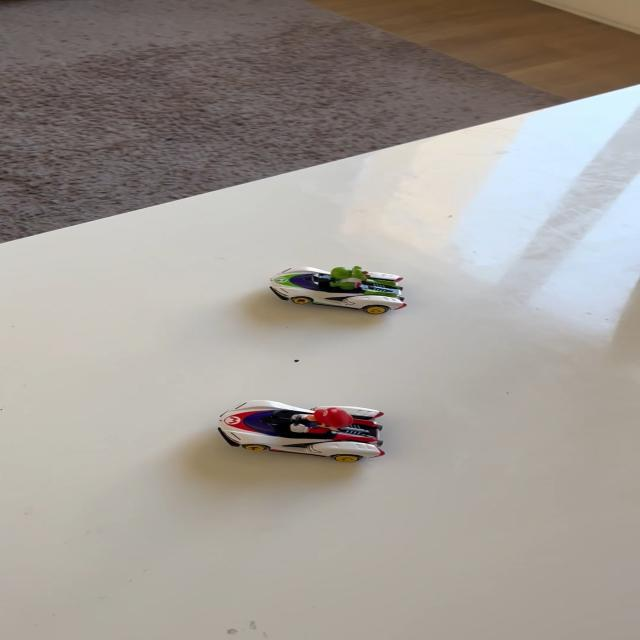mario: (208, 394, 396, 466)
yoshi: (262, 257, 420, 315)
